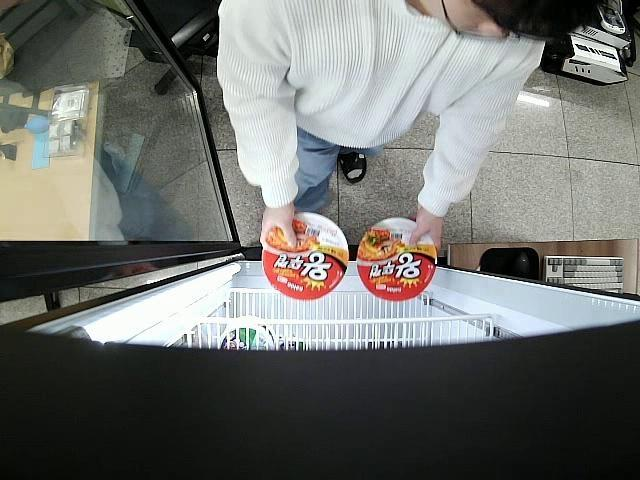10_wangTtukkeong: (262, 212, 349, 300), (358, 218, 438, 303)
